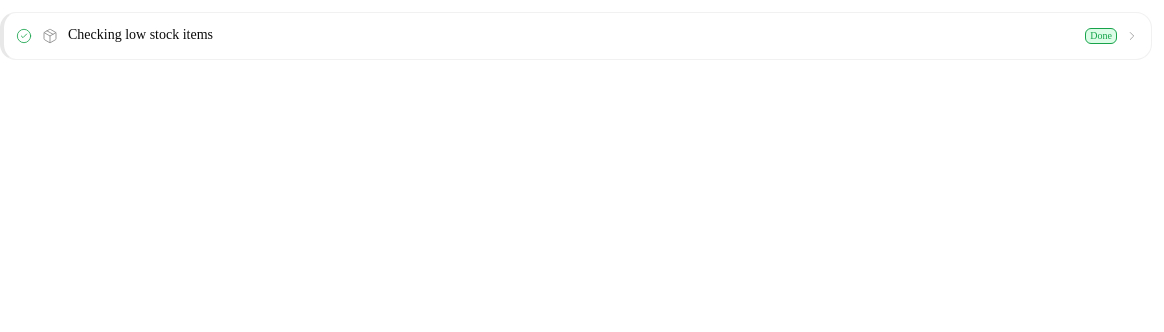
Scenario: ToolStepCard rendering › expands to show input and output on click
This screenshot has width=1164, height=332.
Expected: the text "Input" is not shown
Expected: the text "Output" is not shown
Click the button at {"x": 141, "y": 34}, box [4,13,1151,59]
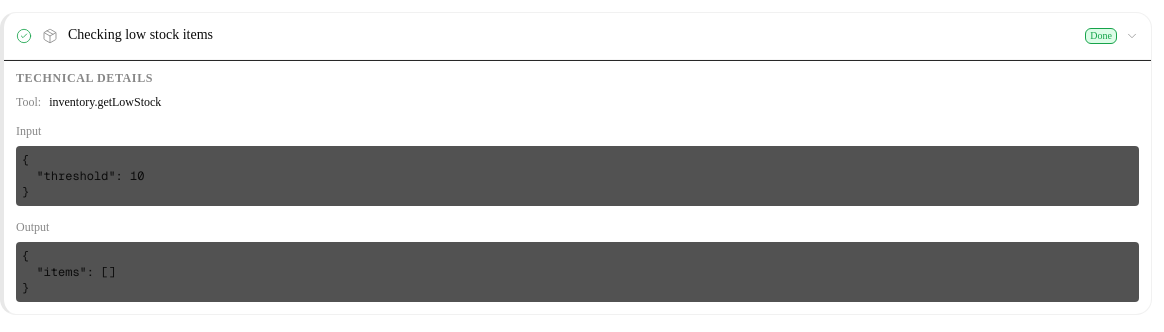
Expected: the text "Input" is shown, [16,124,41,138]
Expected: the text "Output" is shown, [16,220,49,234]
